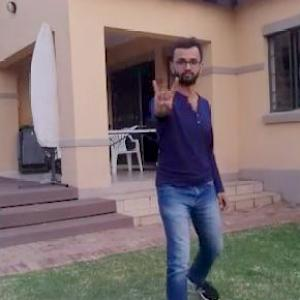takeoff-hand: (146, 70, 180, 119)
